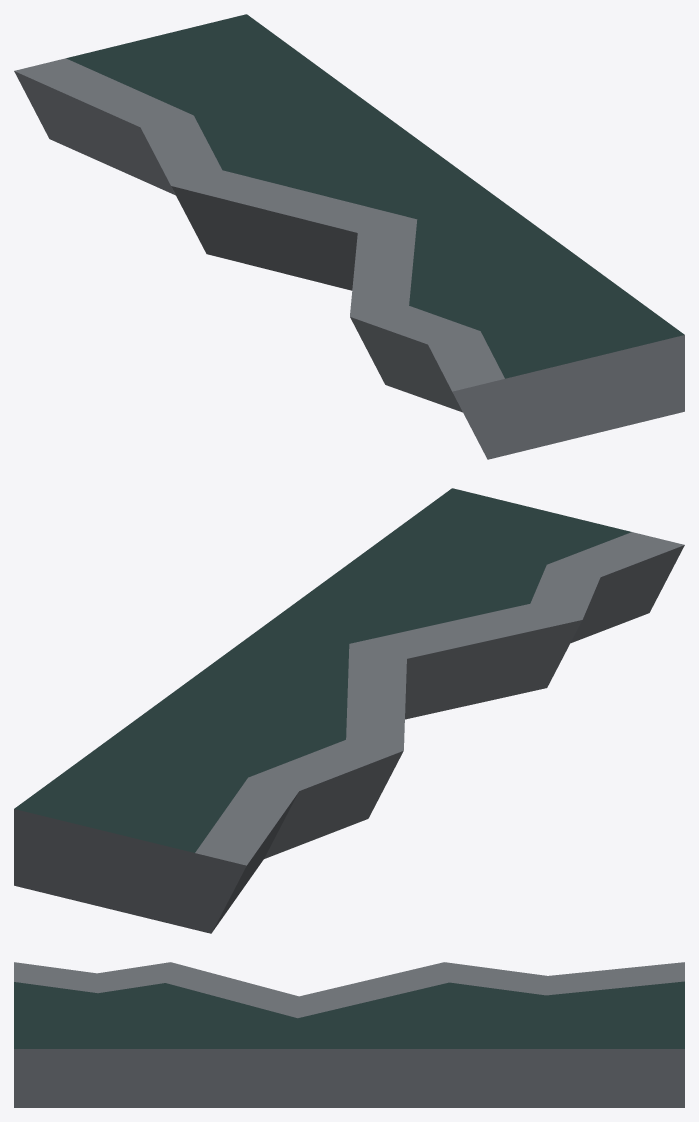
The model's file is Grey_Cliff_Top_01.obj.
3 views of the same model, one above another, from view 1: azimuth 30°, elevation 25°; view 2: azimuth 150°, elevation 25°; view 3: azimuth 270°, elevation 25° (orthographic). The views are drawn at different scales.
Parts seen in each view (by area): view 1: Mesh1_Grey_Cliff_Top_Model; view 2: Mesh1_Grey_Cliff_Top_Model; view 3: Mesh1_Grey_Cliff_Top_Model.
Boxes of the visible parts, <box> form: Mesh1_Grey_Cliff_Top_Model: <box>14,14,684,459</box>; Mesh1_Grey_Cliff_Top_Model: <box>14,488,684,933</box>; Mesh1_Grey_Cliff_Top_Model: <box>14,962,684,1107</box>.
Size of the model in its own units: 0.92 by 0.29 by 3.
